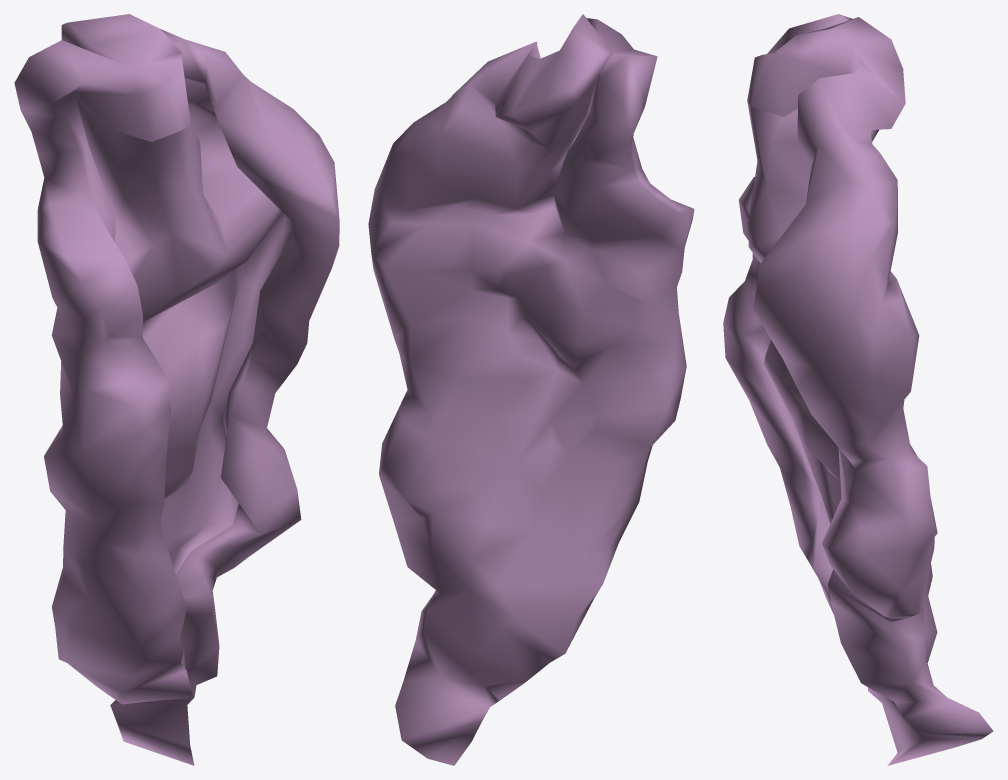
3 renders of one model, left to right at view 1: azimuth 30°, elevation 25°; view 2: azimuth 150°, elevation 25°; view 3: azimuth 270°, elevation 25°, orthographic. The views are drawn at different scales.
Parts seen in each view (by area): view 1: 左侧枕颞外侧回; view 2: 左侧枕颞外侧回; view 3: 左侧枕颞外侧回.
Part boxes in pixels (x1,y1,x2,y2): 左侧枕颞外侧回: [14, 14, 339, 765]; 左侧枕颞外侧回: [368, 14, 694, 765]; 左侧枕颞外侧回: [723, 14, 993, 765].
Size of the model in its own units: 0.038 by 0.0918 by 0.0324.
